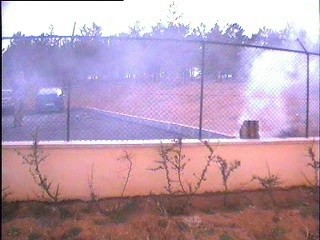smoke: (227, 22, 318, 135)
